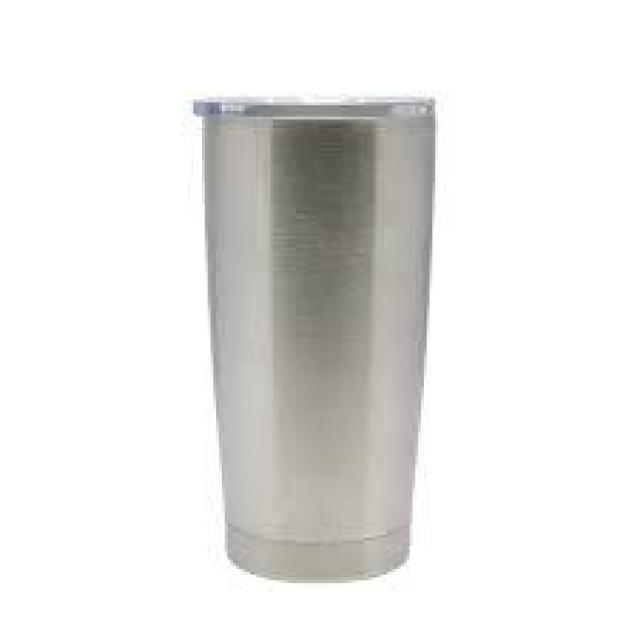bottle: (193, 81, 444, 585)
